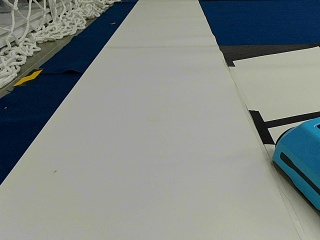car: (271, 114, 319, 208)
